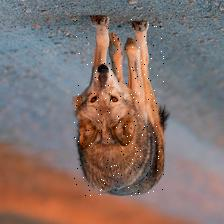WOLF: (73, 17, 163, 195)
